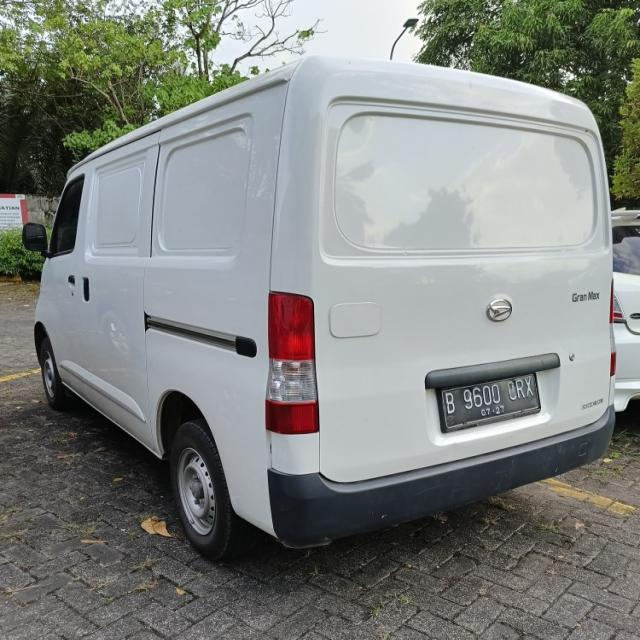plates: (439, 373, 541, 423)
